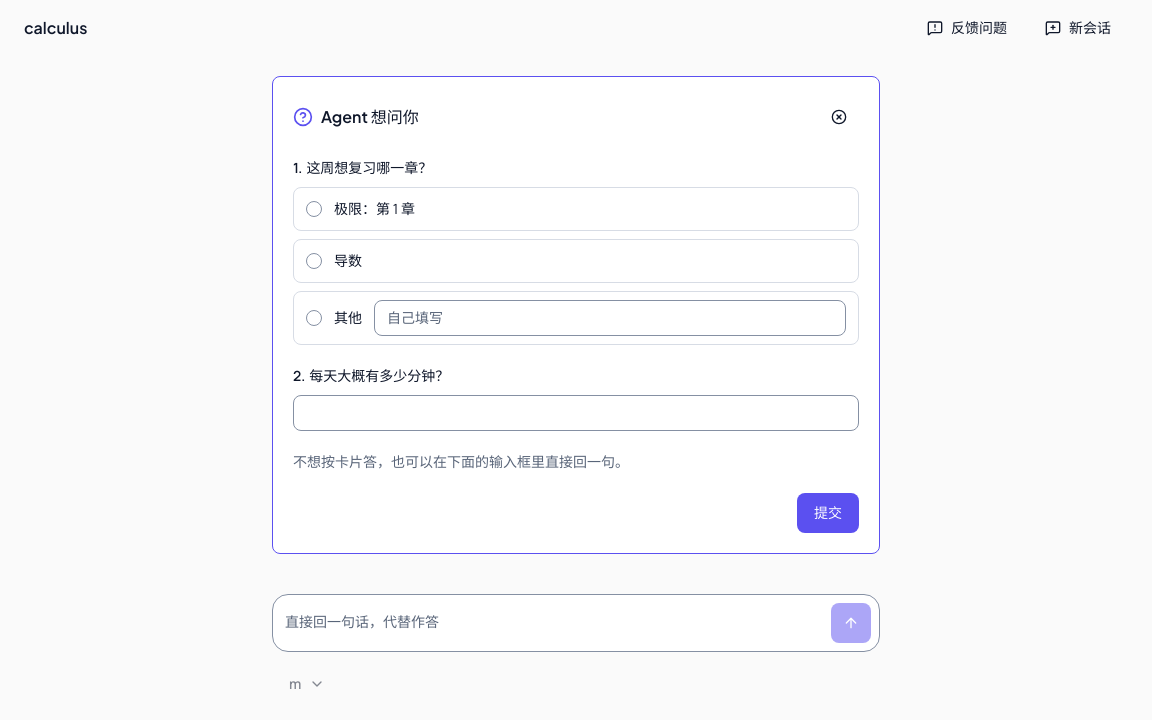
Test: 卡片开着时输入框里的话代替作答交回 Agent，卡片收起成这句话
The width and height of the screenshot is (1152, 720).
(page scrolled)
Type "这周先不安排了" into the text box named "消息".
click(548, 623); type("这周先不安排了")  # box [273, 607, 823, 639]
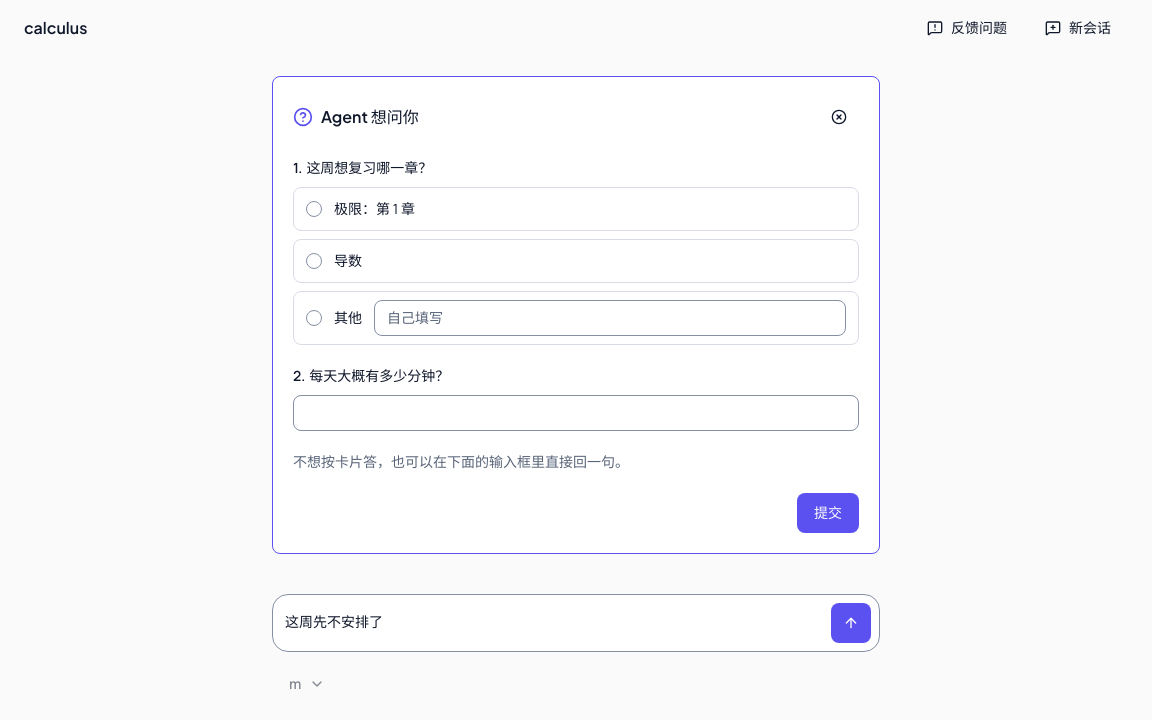
Press Enter in the text box named "消息", box [273, 607, 823, 639]
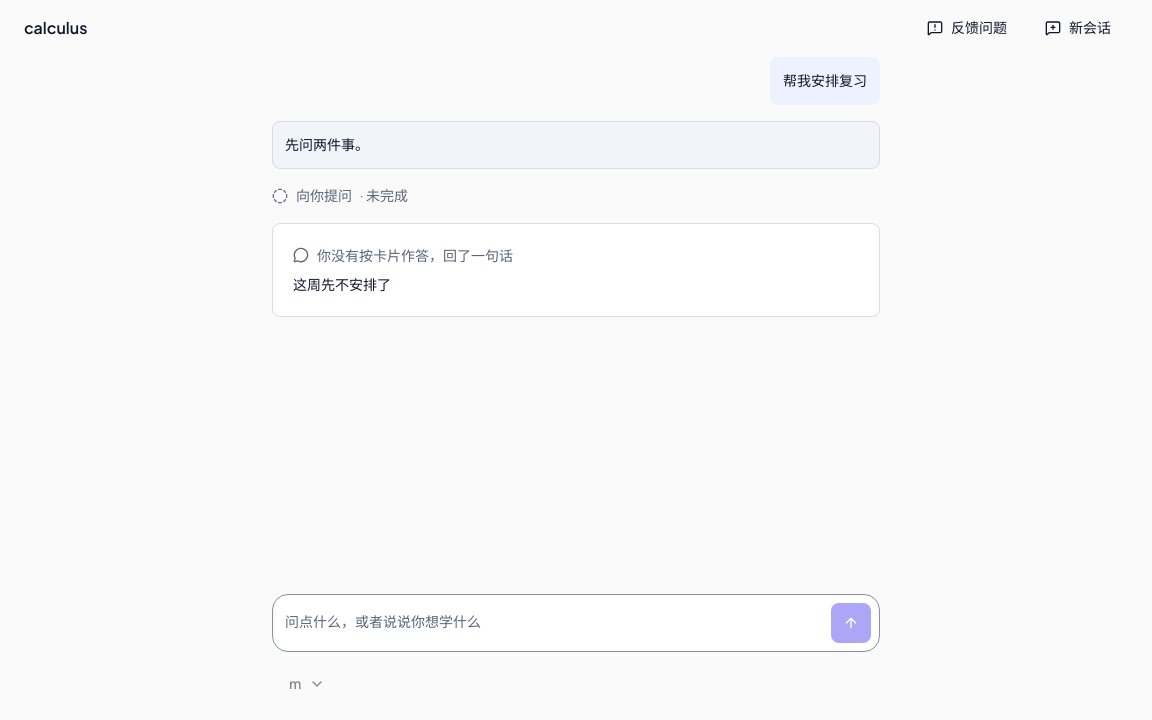
Result: the text "这周先不安排了" is shown at [293, 275, 391, 294]
Result: the text box named "消息" is empty at [273, 607, 823, 639]
